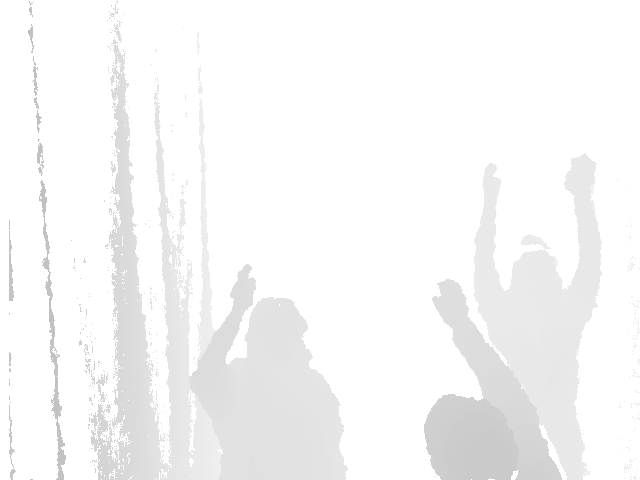hand: (227, 263, 258, 314), (563, 153, 598, 198), (479, 162, 504, 207)
head: (423, 395, 517, 480), (246, 298, 307, 369), (508, 235, 566, 305)
person: (192, 263, 349, 480), (477, 154, 607, 415), (421, 279, 564, 480)
